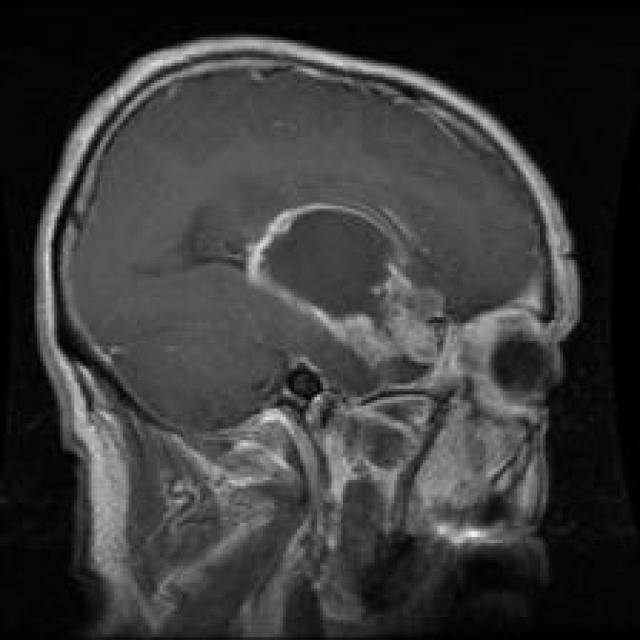glioma_tumor: (240, 189, 461, 388)
